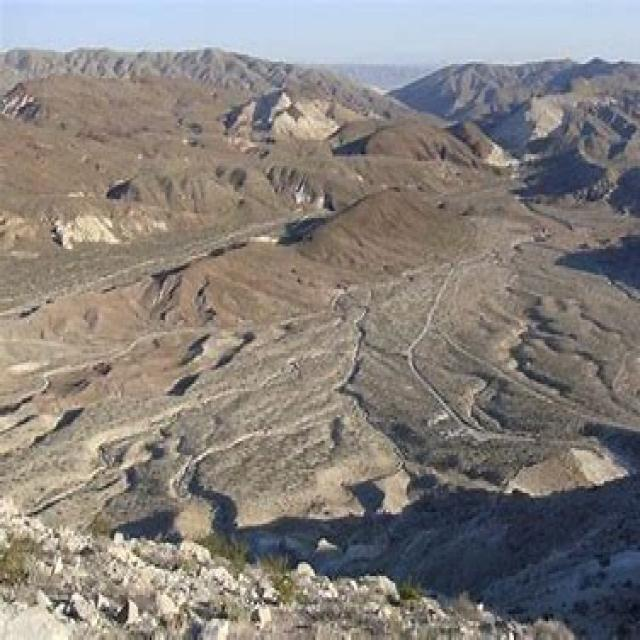Alluvial Soil: (24, 168, 542, 498)
